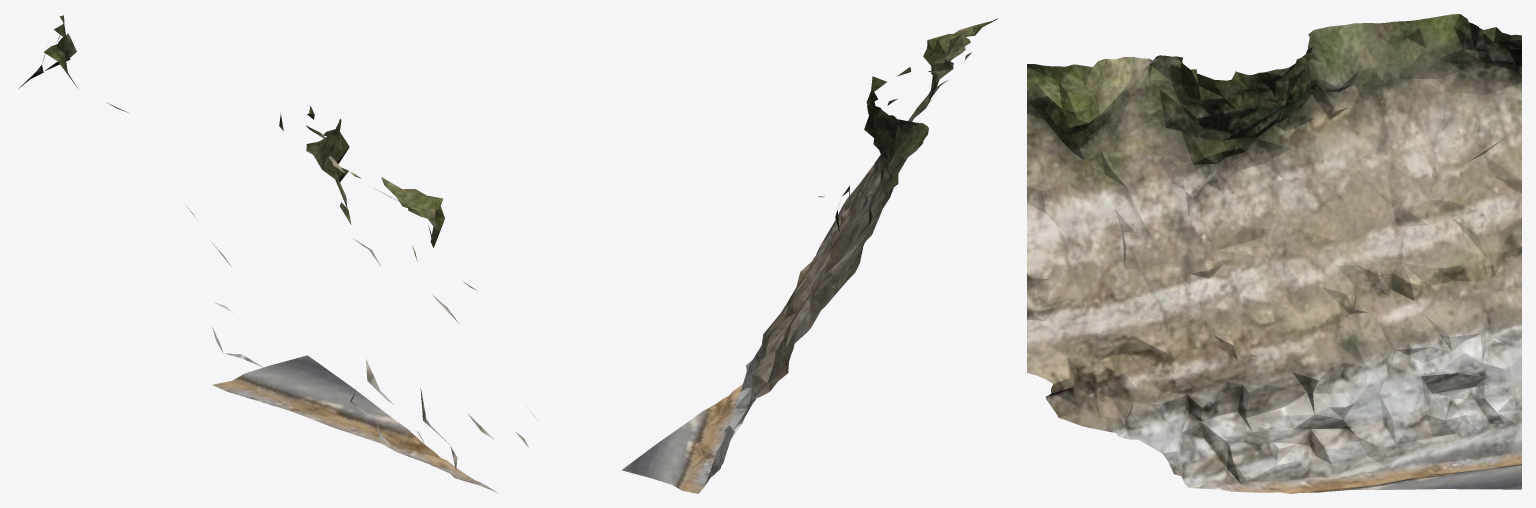
The picture shows the model from 3 angles, left to right: view 1: azimuth 30°, elevation 25°; view 2: azimuth 150°, elevation 25°; view 3: azimuth 270°, elevation 25°; orthographic projection. The views are drawn at different scales.
Bounding box in the file's own units: 7.16 × 9.34 × 11.8.
2 materials, 2 textured.
